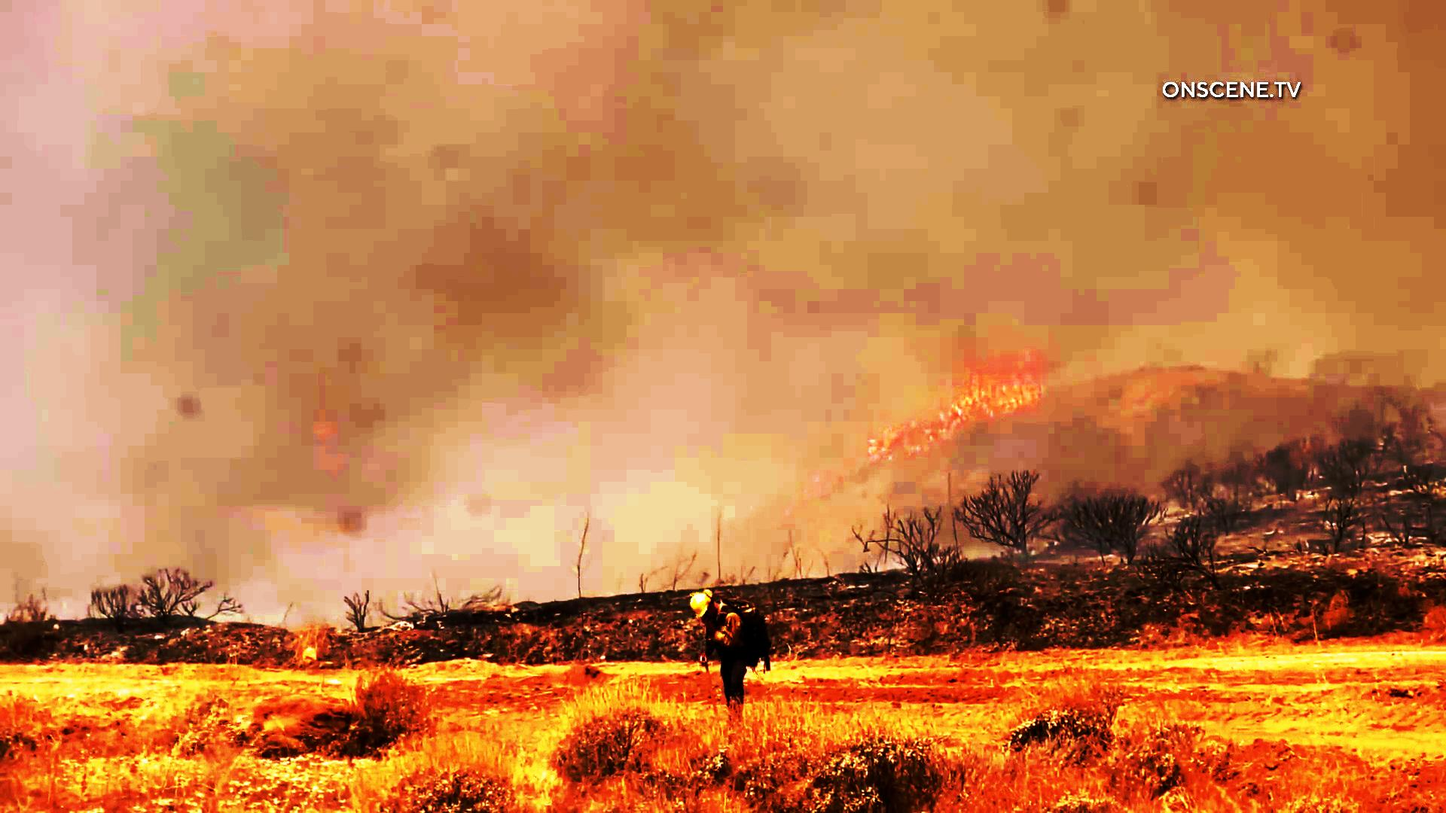fire: (855, 350, 1060, 466)
